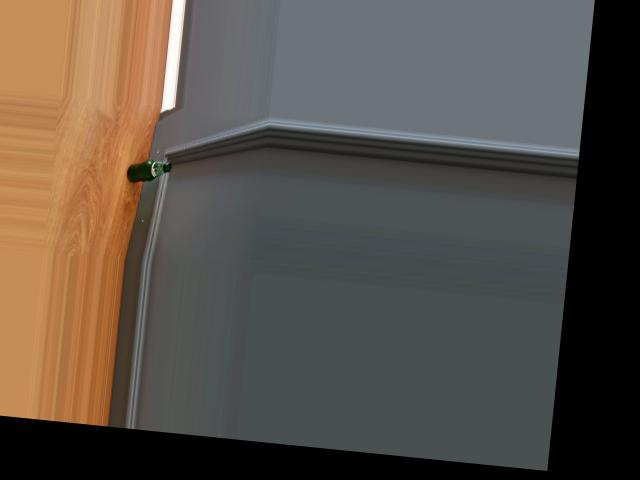beer: (126, 158, 170, 185)
